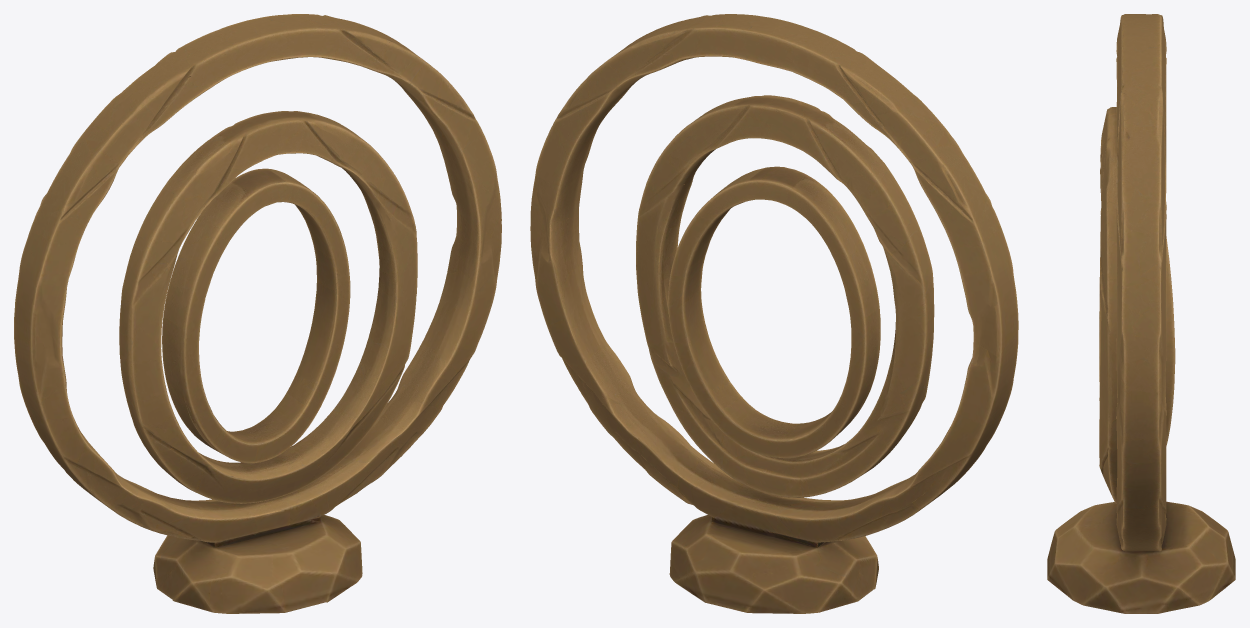
Rendered from fig-scopes.glb.
The picture shows the model from 3 angles, left to right: view 1: azimuth 30°, elevation 25°; view 2: azimuth 150°, elevation 25°; view 3: azimuth 270°, elevation 25°; orthographic projection. The views are drawn at different scales.
Visible parts, largest first — view 1: Mesh_0; view 2: Mesh_0; view 3: Mesh_0.
Part boxes in pixels (x1,y1,x2,y2): Mesh_0: [14, 14, 501, 613]; Mesh_0: [530, 14, 1018, 613]; Mesh_0: [1047, 14, 1235, 613].
Bounding box in the file's own units: 1.72 × 1.9 × 0.6097.
1 material, 1 textured.
